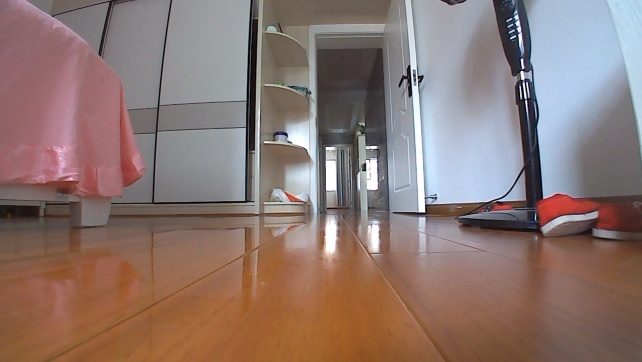bed1: (0, 0, 146, 235)
door_anno: (379, 0, 430, 216)
shoe: (530, 190, 641, 240)
wire: (460, 100, 542, 214)
